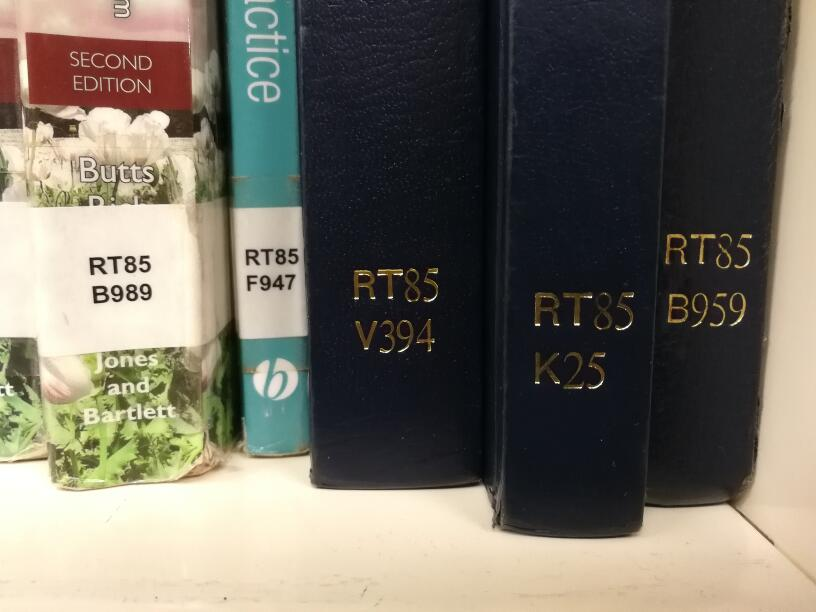booklabel: (529, 287, 639, 395), (663, 228, 757, 333), (350, 263, 446, 358), (85, 251, 156, 306), (241, 244, 300, 293)
